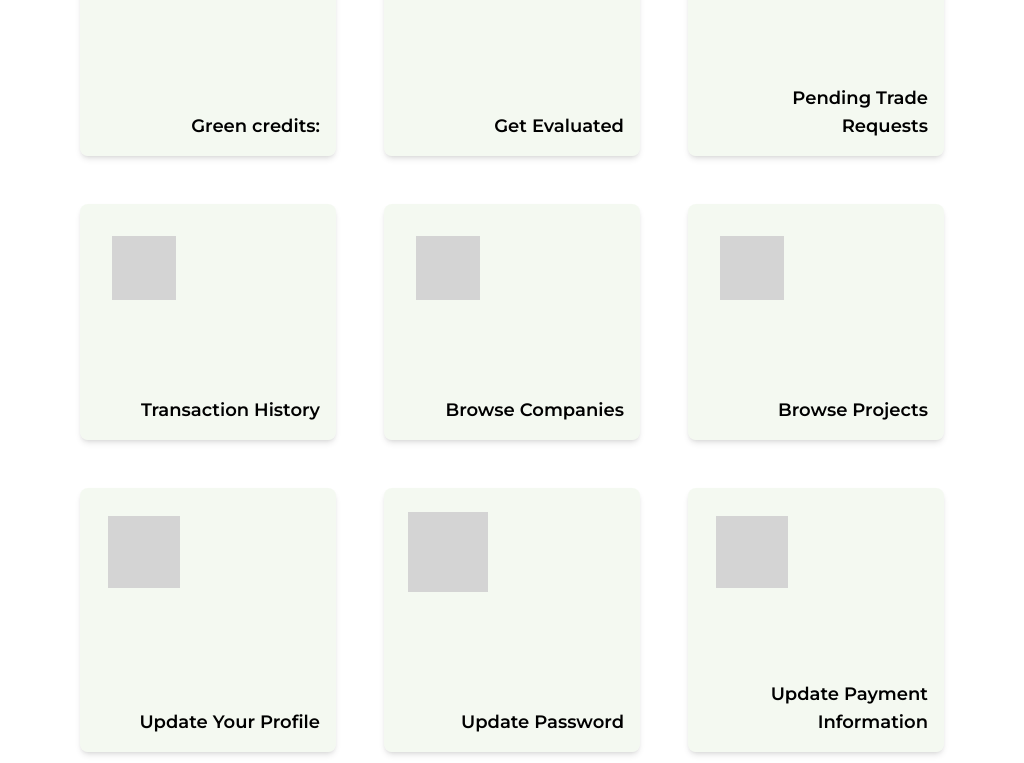
Test: Profile Page › shows 'Update Password' form when user clicks 'Update Password' button
(page scrolled)
Step 1. Click the button "Update Password" → (542, 722), box x1=461 y1=708 x2=624 y2=736
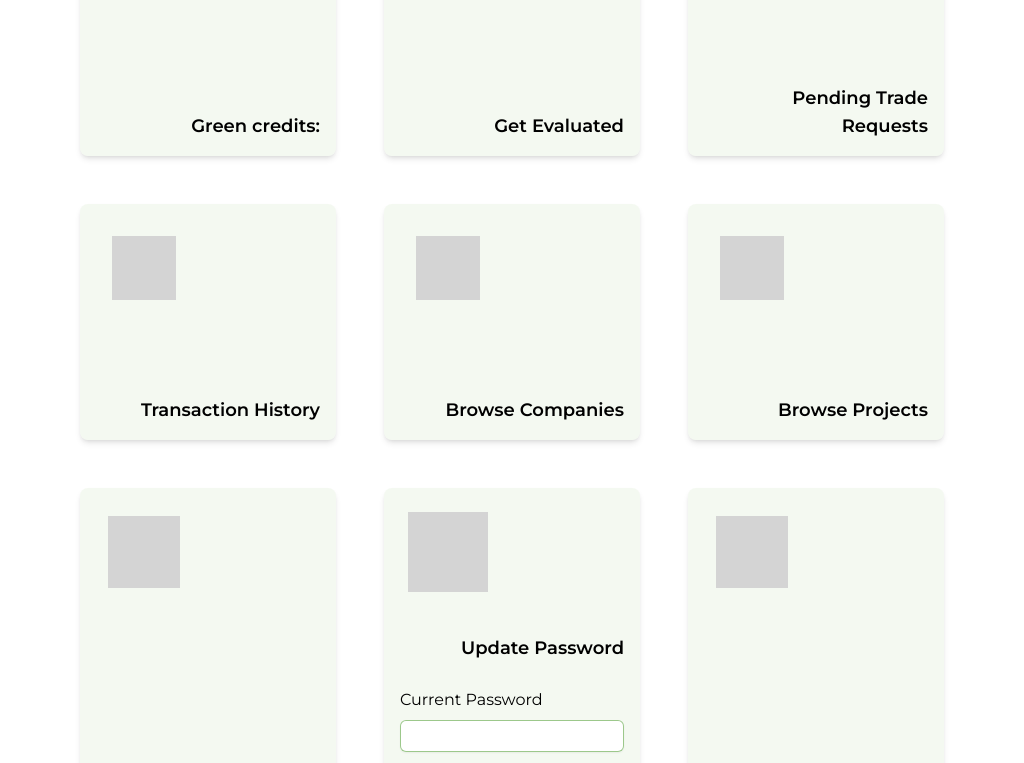
Expected: the button "Update Password" is shown, x1=461 y1=634 x2=624 y2=662
Result: the text "Current Password" is shown at x1=400 y1=690 x2=542 y2=709
